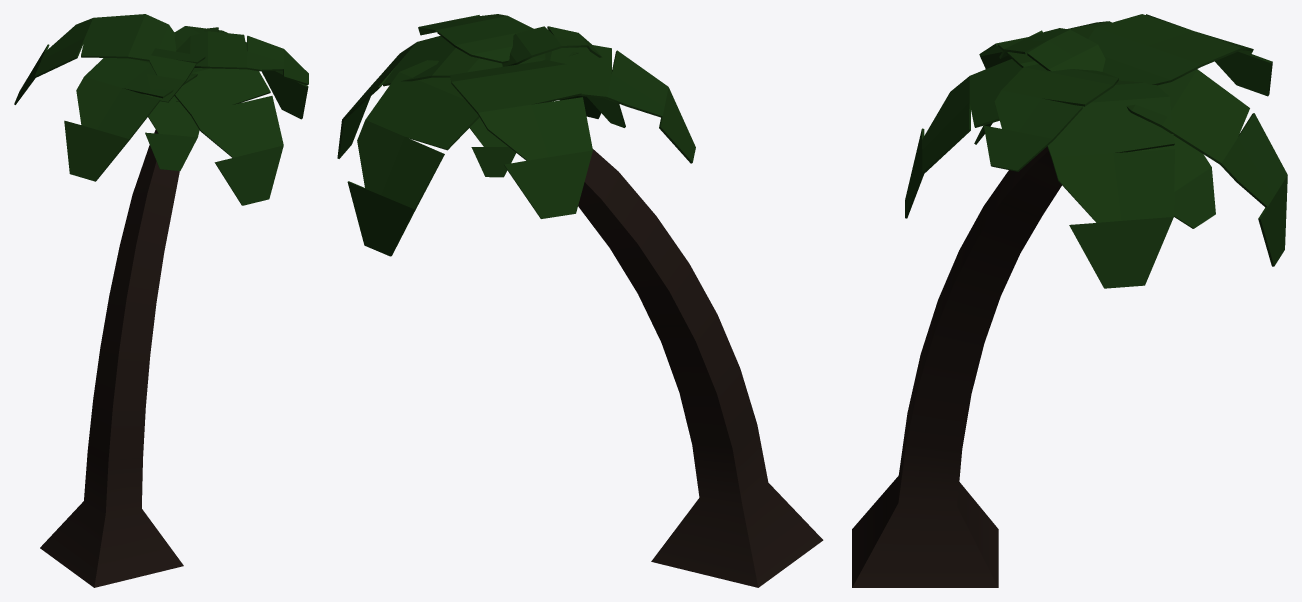
File: PalmTree.FBX
The picture shows the model from 3 angles, left to right: view 1: azimuth 30°, elevation 25°; view 2: azimuth 150°, elevation 25°; view 3: azimuth 270°, elevation 25°; orthographic projection. The views are drawn at different scales.
Visible parts, largest first — view 1: Box003; view 2: Box003; view 3: Box003.
Part boxes in pixels (x1=…): Box003: x1=14, y1=14, x2=308, y2=587; Box003: x1=337, y1=14, x2=823, y2=587; Box003: x1=852, y1=14, x2=1287, y2=587.
Size of the model in its own units: 6.09 by 8.46 by 5.66.
